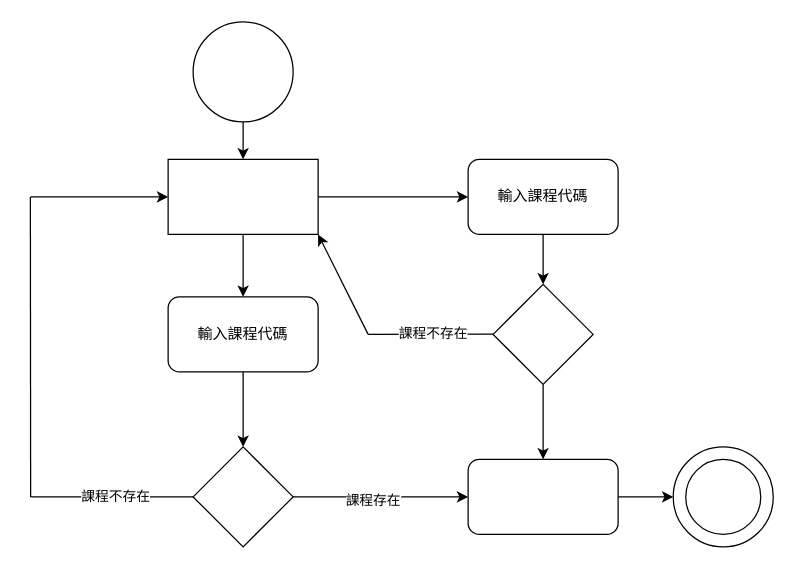
Some shapes in this 796 by 569 pixel diagram are drawn without their labels. The shapes that lost their labels are listed below. From the top down, each one's centre as x and y in pixels, then its label:
At point 242,196: "查詢頁面".
At point 542,496: "顯示課程".
